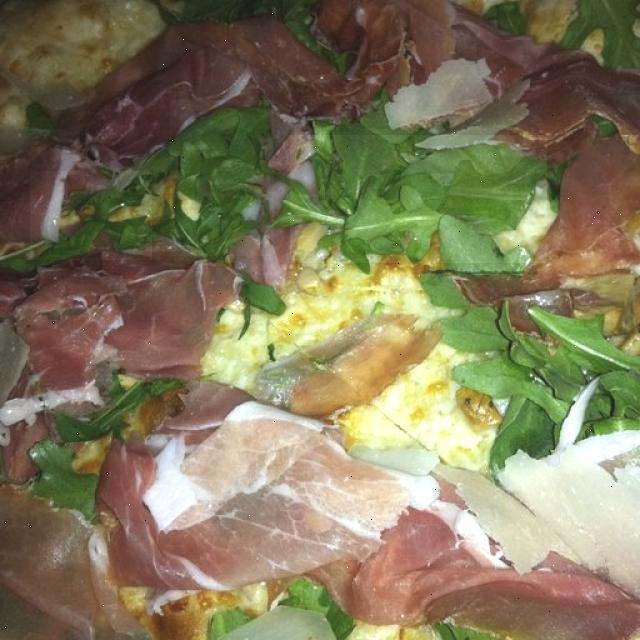Olive: (456, 388, 502, 431)
basil: (290, 135, 547, 263), (438, 288, 640, 447), (170, 100, 274, 256), (30, 171, 152, 260), (208, 574, 352, 640), (51, 374, 174, 442), (557, 0, 640, 67), (34, 442, 97, 524), (229, 264, 286, 334)
